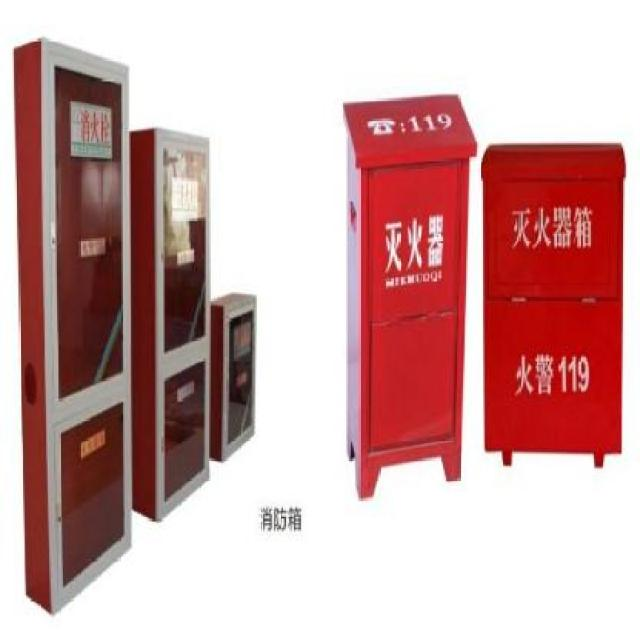firehydrant: (9, 32, 133, 621), (338, 89, 479, 504), (477, 136, 630, 476), (128, 125, 213, 526), (209, 284, 259, 468)
